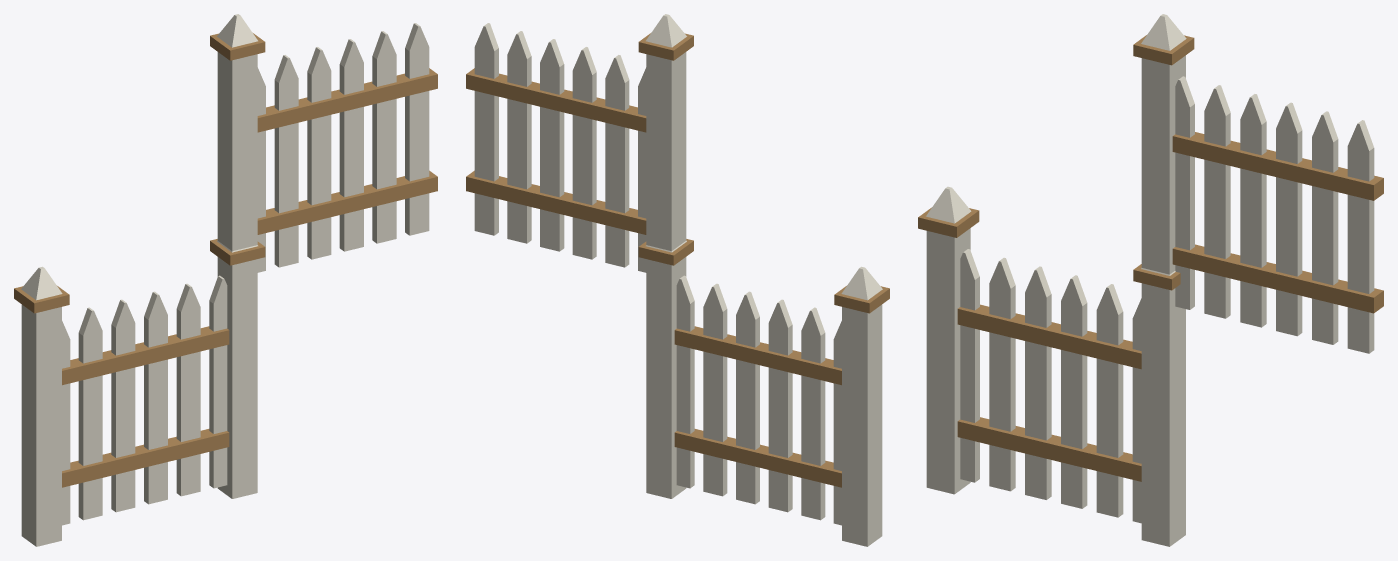
Rendered from picket_step.glb.
3 views of the same model, side by side, from view 1: azimuth 30°, elevation 25°; view 2: azimuth 150°, elevation 25°; view 3: azimuth 330°, elevation 25° (orthographic). The views are drawn at different scales.
Parts seen in each view (by area): view 1: fence_picket_step; view 2: fence_picket_step; view 3: fence_picket_step.
Part boxes in pixels (left/top/right/bottom): fence_picket_step: left=14, top=14, right=437, bottom=546; fence_picket_step: left=466, top=14, right=889, bottom=546; fence_picket_step: left=918, top=14, right=1383, bottom=546.
Bounding box in the file's own units: 2.09 × 2.32 × 0.18.
